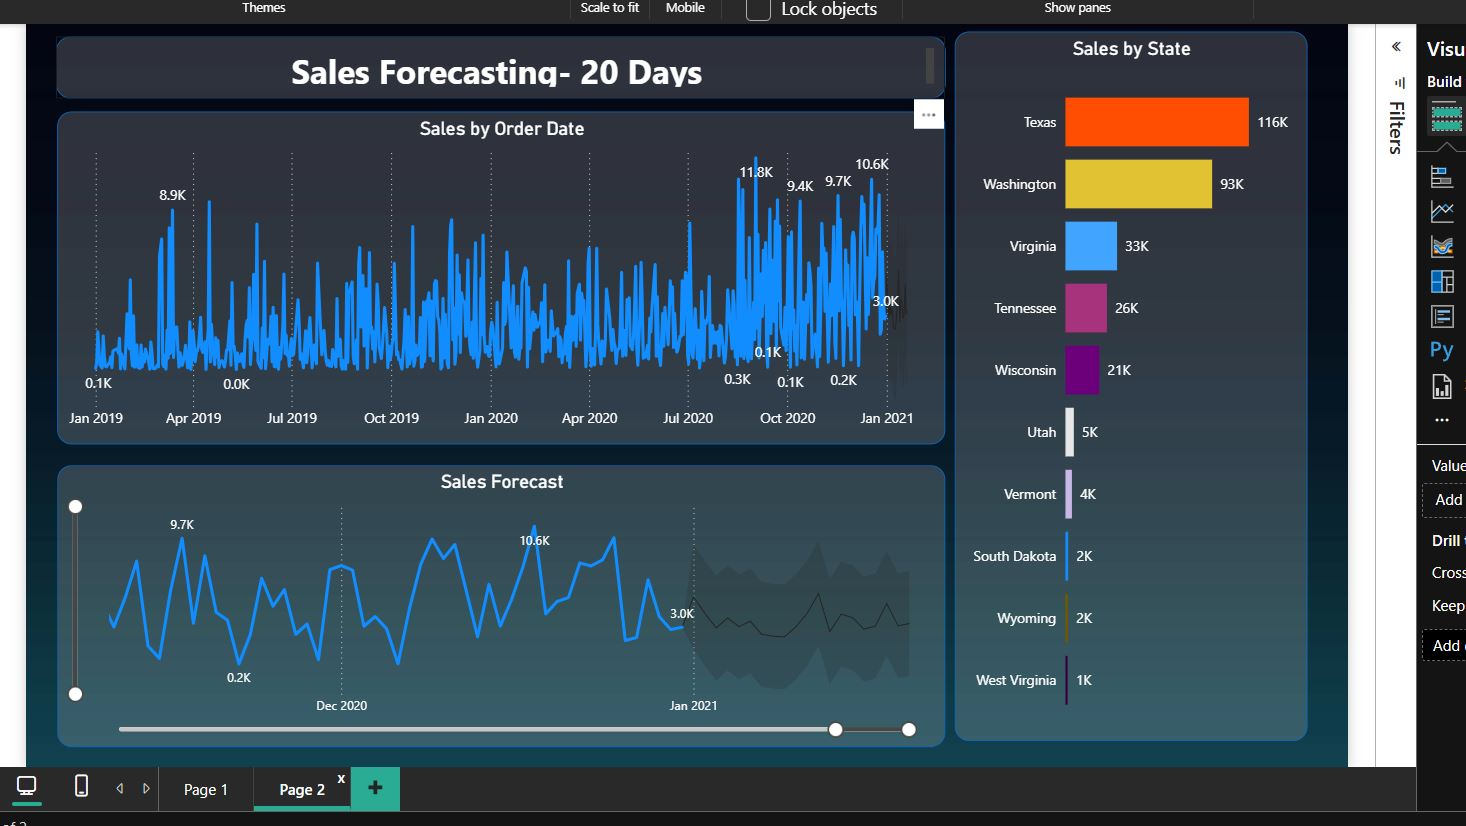

The dashboard page shown, as its layout file describes it:
{"tool":"powerbi","page":{"name":"Page 2","canvas":[1280,720],"ordinal":1},"visuals":[{"type":"lineChart","title":"Sales by Order Date","fields":{"Y":["Sum(SuperStore_Sales_Dataset.Sales)"],"Category":["SuperStore_Sales_Dataset.Order Date"]},"box":[30,85,860,322.5],"z":0},{"type":"lineChart","title":"Sales Forecast","fields":{"Y":["Sum(SuperStore_Sales_Dataset.Sales)"],"Category":["SuperStore_Sales_Dataset.Order Date"]},"box":[30,427.5,860,272.5],"z":1000},{"type":"textbox","box":[28.8,12.5,861.2,60],"z":2000},{"type":"clusteredBarChart","title":" Sales by State","fields":{"Category":["SuperStore_Sales_Dataset.State"],"Y":["Sum(SuperStore_Sales_Dataset.Sales)"]},"box":[900,7.5,341.2,687.5],"z":3000}]}

Visuals, with their boxes on the page's 1280x720 design canvas (x1, y1, x2, y2). These are canvas units, not pixel positions in the 1466x826 screenshot, which may show the page scaled, cropped or inside an application window:
"Sales by Order Date" lineChart: 30/85/890/408
"Sales Forecast" lineChart: 30/428/890/700
textbox: 29/12/890/72
" Sales by State" clusteredBarChart: 900/8/1241/695
